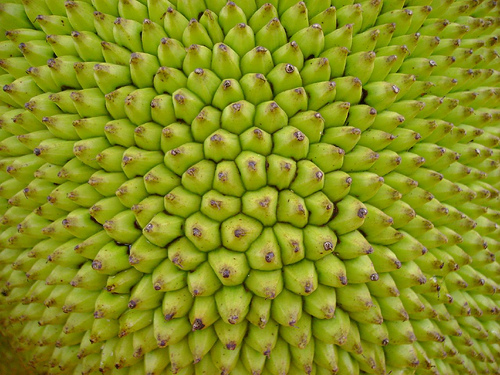jackfruit: (1, 0, 499, 374)
